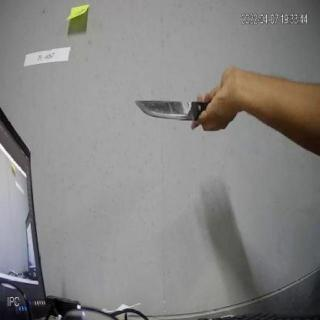knife: (134, 76, 222, 126)
